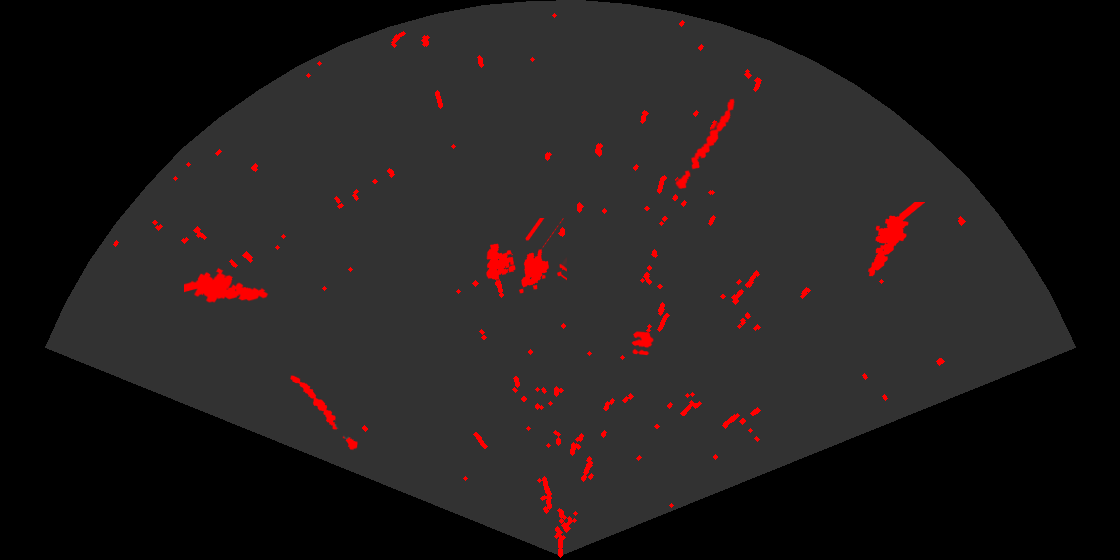ball: (630, 330, 655, 357)
cage: (485, 218, 567, 295)
chain: (674, 97, 736, 191), (289, 374, 359, 452)
frogman: (866, 202, 925, 278), (184, 266, 270, 304)
